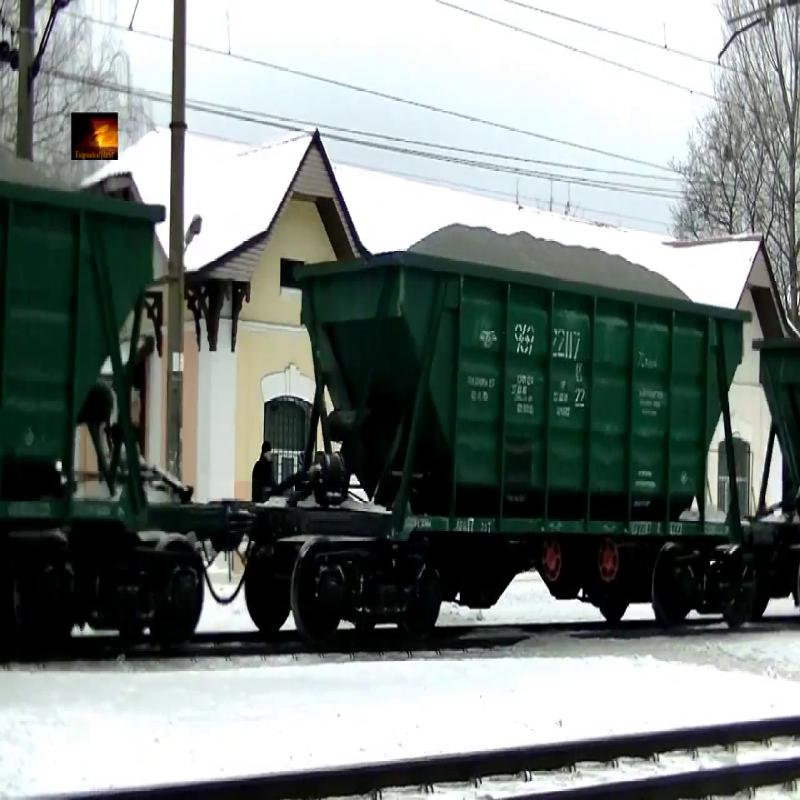train: (277, 217, 757, 639), (1, 137, 236, 647)
